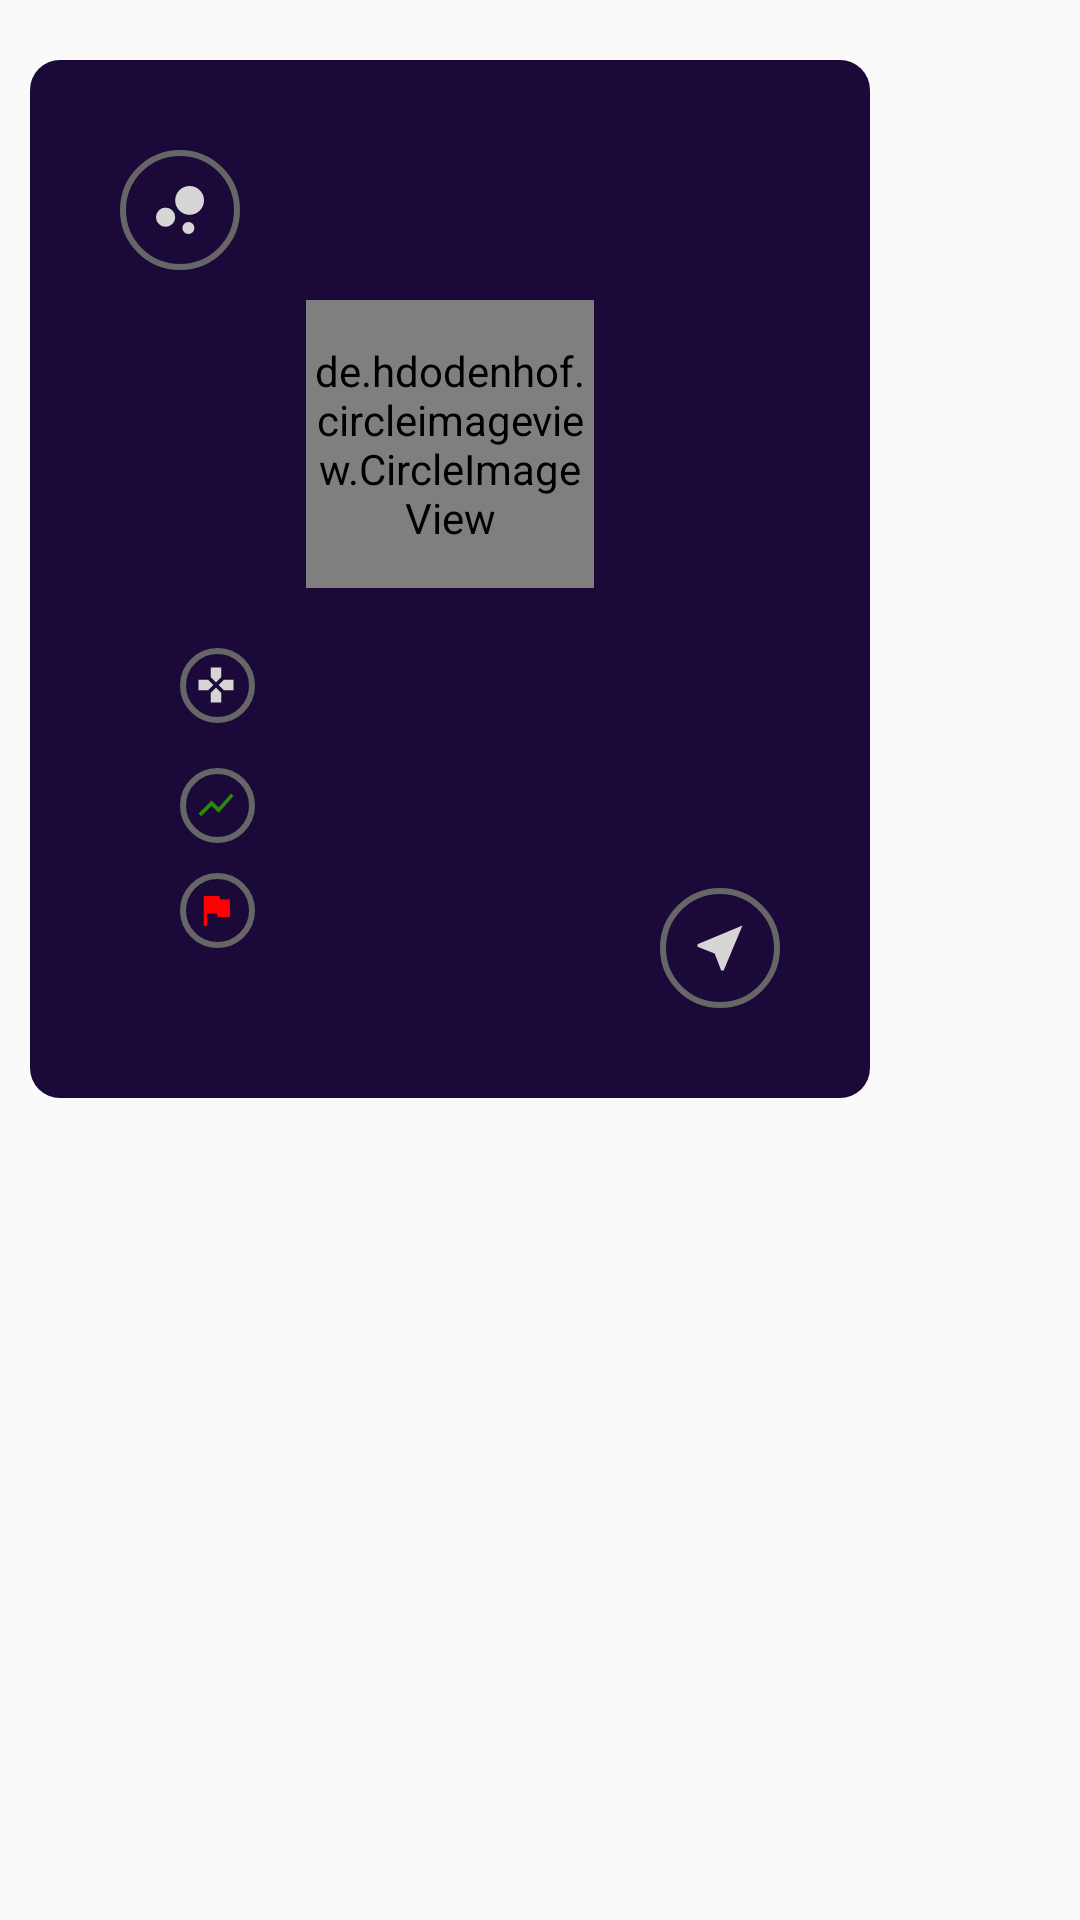

Where to tap for icons on this 1080w x 1920h app screen, as (x=x, y=y):
near me: (x=720, y=948)
